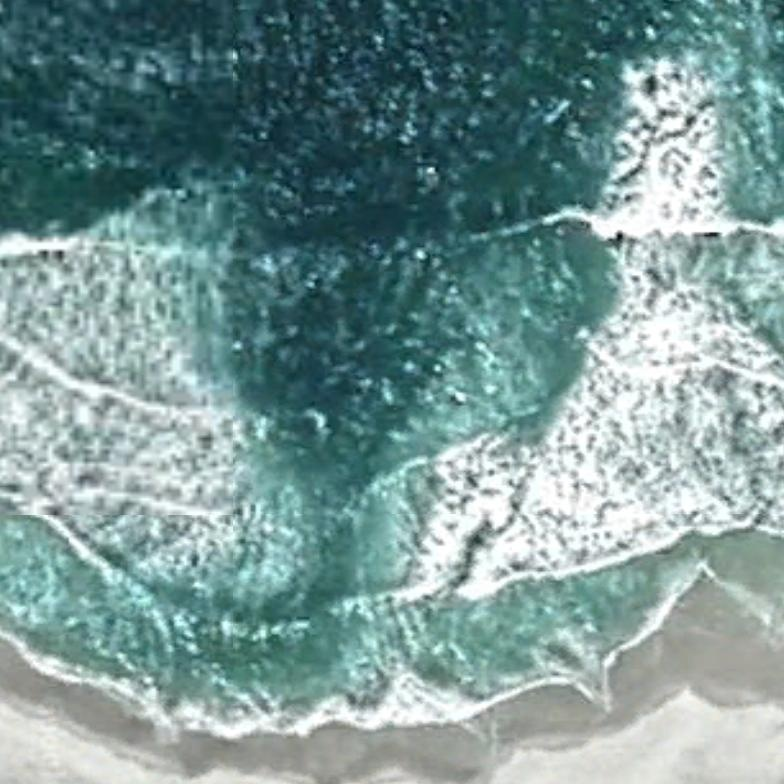rip_current: (131, 98, 591, 654)
